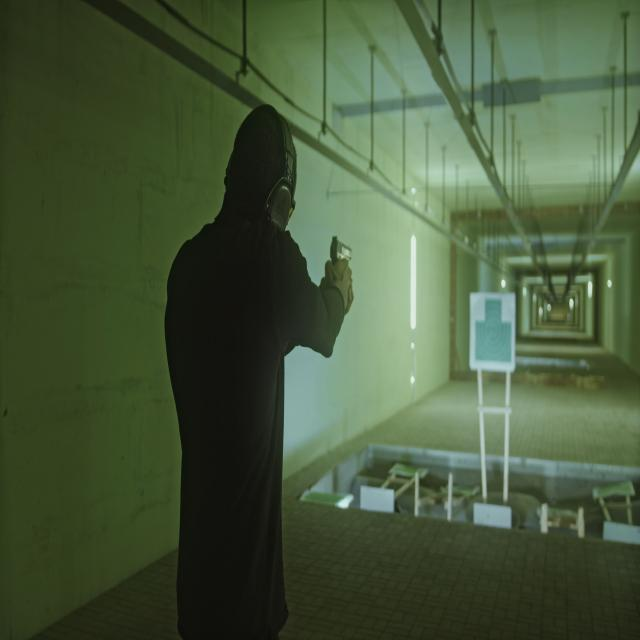Gun_Holder: (321, 231, 366, 313)
Person: (164, 107, 354, 638)
